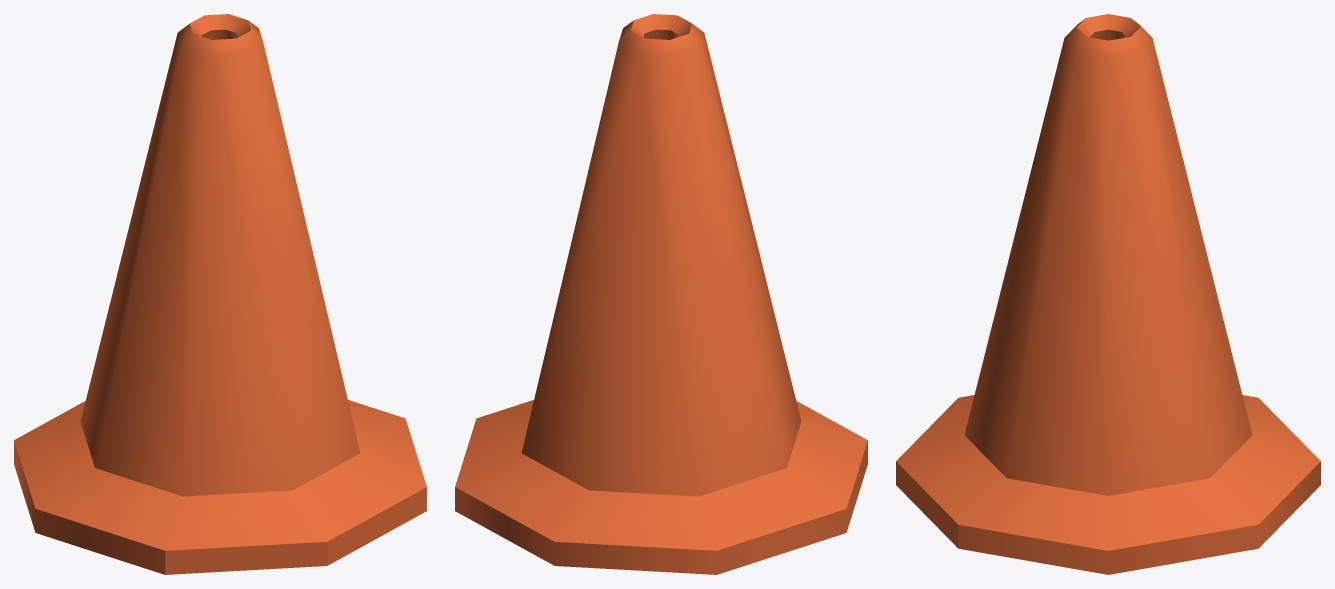
3 renders of one model, left to right at view 1: azimuth 30°, elevation 25°; view 2: azimuth 150°, elevation 25°; view 3: azimuth 270°, elevation 25°, orthographic.
Parts seen in each view (by area): view 1: Cono; view 2: Cono; view 3: Cono.
Boxes of the visible parts, x1,y1,x2,y2 form: Cono: [14, 14, 426, 574]; Cono: [455, 14, 867, 574]; Cono: [896, 14, 1320, 574].
Bounding box in the file's own units: 46.98 × 55.88 × 46.98.
